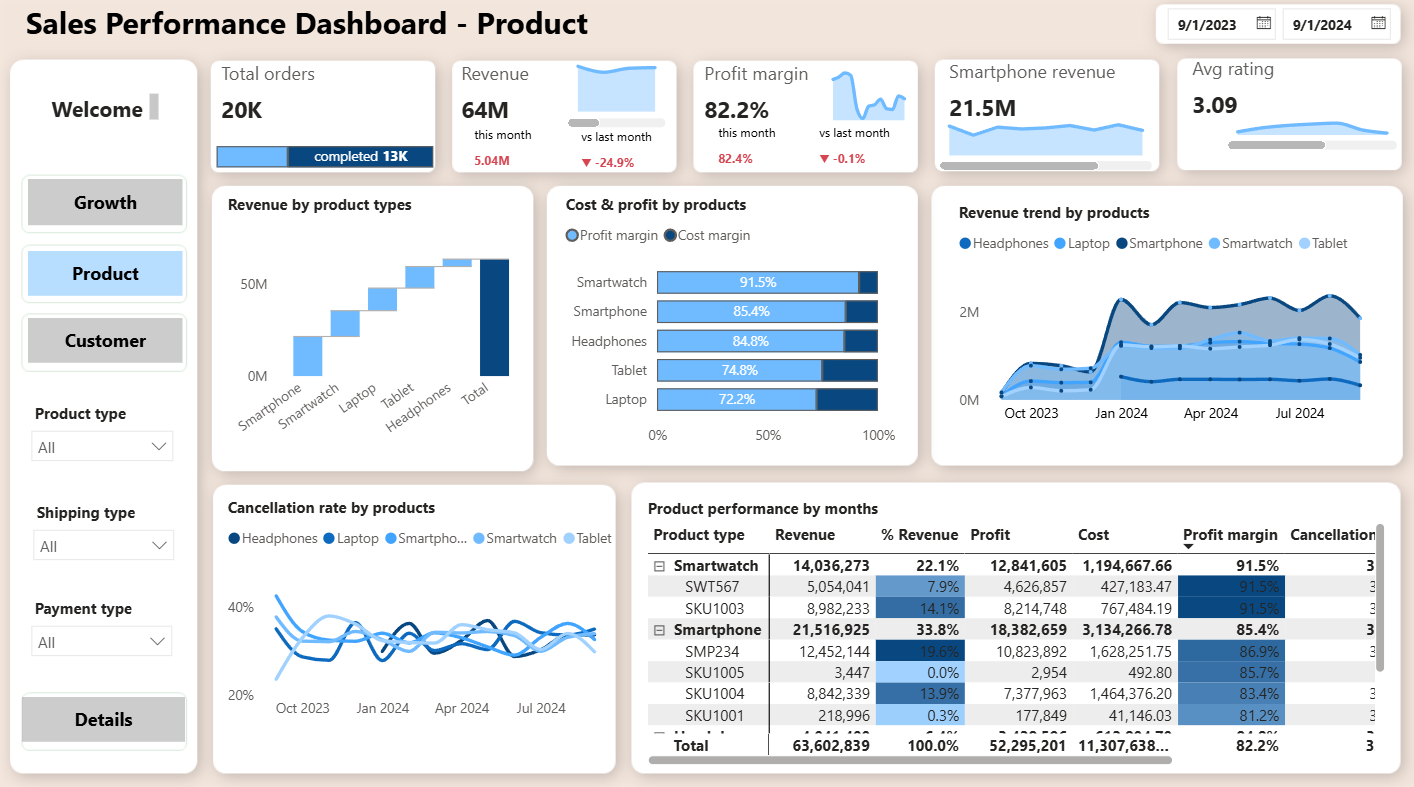

This screenshot's page, from the dashboard's own definition file:
{"tool":"powerbi","page":{"name":"Product","canvas":[1280,720],"ordinal":1},"visuals":[{"type":"cardVisual","fields":{"Data":["*Measure.M_order"]},"box":[192.8,43.9,133.2,99.2],"z":0},{"type":"textbox","box":[48.2,90.7,110.6,34],"z":1000},{"type":"cardVisual","fields":{"Data":["Avg(fact_order.rating)"]},"box":[1053.4,39.9,193.3,99.3],"z":2000},{"type":"lineChart","title":"Cancellation rate by products","fields":{"Category":["calendar.Start of Month"],"Series":["dim_product.product type"],"Y":["*Measure.M_Cancellation rate"]},"box":[210.1,453.1,357.3,205.7],"z":3000},{"type":"areaChart","title":"Revenue trend by products","fields":{"Category":["calendar.Start of Month.Variation.Date Hierarchy.Year","calendar.Start of Month.Variation.Date Hierarchy.Quarter","calendar.Start of Month.Variation.Date Hierarchy.Month","calendar.Start of Month.Variation.Date Hierarchy.Day"],"Series":["dim_product.product type"],"Y":["*Measure.M_revenue"]},"box":[858.6,191.6,388,205.3],"z":4000},{"type":"textbox","box":[31.2,8.5,559.8,45.4],"z":5000},{"type":"pivotTable","title":"Product performance by months","fields":{"Rows":["dim_product.product type","dim_product.sku"],"Values":["*Measure.M_revenue","*Measure.M_%_revenue product","*Measure.M_profit","*Measure.M_cost","*Measure.M_profit margin","*Measure.M_Cancellation rate","CountNonNull(fact_order.order id)","SparklineData(Sum(fact_order.order id)_[calendar.Start of Month])"]},"box":[582.5,453.8,664.1,241.7],"z":6000},{"type":"slicer","fields":{"Values":["calendar.Start of Month"]},"box":[1036.1,9.9,221.1,49.6],"z":7000},{"type":"actionButton","box":[38.3,171.5,137.5,41.1],"z":8000},{"type":"cardVisual","fields":{"Data":["*Measure.M_profit margin"]},"box":[620.8,43.9,181.4,99.2],"z":9000},{"type":"barChart","title":"Cost & profit by products","fields":{"Category":["dim_product.product type"],"Y":["*Measure.M_profit margin","*Measure.M_cost_margin"]},"box":[510.2,184.3,301.9,232.4],"z":10000},{"type":"slicer","fields":{"Values":["dim_product.product type"]},"box":[31.2,365.7,146,79.4],"z":11000},{"type":"slicer","fields":{"Values":["dim_shipping.shipping type"]},"box":[32.6,453.5,144.6,63.8],"z":12000},{"type":"actionButton","box":[38.3,235.3,137.5,39.7],"z":13000},{"type":"actionButton","box":[38.3,294.8,137.5,39.7],"z":14000},{"type":"areaChart","title":"Order trend","fields":{"Category":["calendar.Start of Month.Variation.Date Hierarchy.Year","calendar.Start of Month.Variation.Date Hierarchy.Quarter","calendar.Start of Month.Variation.Date Hierarchy.Month","calendar.Start of Month.Variation.Date Hierarchy.Day"],"Y":["*Measure.M_profit margin"]},"box":[737,62.4,93.5,62.4],"z":15000},{"type":"barChart","title":"Order status","fields":{"Series":["fact_order.status"],"Y":["*Measure.M_order"]},"box":[200.4,103.7,202.2,88.7],"z":16000},{"type":"areaChart","title":"Order trend","fields":{"Category":["calendar.Start of Month.Variation.Date Hierarchy.Year","calendar.Start of Month.Variation.Date Hierarchy.Quarter","calendar.Start of Month.Variation.Date Hierarchy.Month","calendar.Start of Month.Variation.Date Hierarchy.Day"],"Y2":["*Measure.M_revenue"]},"box":[511.6,48.8,96.7,81.6],"z":17000},{"type":"areaChart","title":"Order trend","fields":{"Category":["calendar.Start of Month.Variation.Date Hierarchy.Year","calendar.Start of Month.Variation.Date Hierarchy.Quarter","calendar.Start of Month.Variation.Date Hierarchy.Month","calendar.Start of Month.Variation.Date Hierarchy.Day"],"Y":["Avg(fact_order.rating)"]},"box":[1097,73.7,160.2,76.5],"z":18000},{"type":"cardVisual","fields":{"Data":["*Measure.M_profit_margin_this_month"]},"box":[633.5,107.7,147.4,68],"z":19000},{"type":"cardVisual","fields":{"Data":["*Measure.M_profit_margin_MoM_card"]},"box":[722.8,107.7,114.8,68],"z":20000},{"type":"slicer","fields":{"Values":["dim_payment.payment type"]},"box":[31.2,538.6,144.6,59.5],"z":21000},{"type":"actionButton","box":[32.6,630.7,144.6,39.7],"z":22000},{"type":"waterfallChart","title":"Revenue by product types","fields":{"Category":["dim_product.product type"],"Y":["*Measure.M_revenue"]},"box":[209.8,184.3,273.5,232.4],"z":23000},{"type":"cardVisual","fields":{"Data":["*Measure.M_icon_r_mom"]},"box":[511.7,110.6,140.3,68],"z":24000},{"type":"cardVisual","fields":{"Data":["*Measure.M_revenue"]},"box":[405.4,43.9,192.8,99.2],"z":25000},{"type":"cardVisual","fields":{"Data":["*Measure.M_revenue_this_month"]},"box":[416.7,109.1,140.3,68],"z":26000},{"type":"areaChart","title":"Smartphone revenue","fields":{"Category":["calendar.Start of Month.Variation.Date Hierarchy.Year","calendar.Start of Month.Variation.Date Hierarchy.Quarter","calendar.Start of Month.Variation.Date Hierarchy.Month","calendar.Start of Month.Variation.Date Hierarchy.Day"],"Y":["*Measure.M_revenue_smartphone"]},"box":[841.9,107.7,198.4,60.9],"z":27000},{"type":"cardVisual","fields":{"Data":["*Measure.M_revenue_smartphone"]},"box":[837.6,45.4,198.4,93.5],"z":28000}]}

Visuals, with their boxes in screenshot pixels (x1, y1, x2, y2), scaled from the page's 1280x720 canvas onto the 1414x787 screenshot:
cardVisual - *Measure.M_order: [213, 48, 360, 156]
textbox: [53, 99, 175, 136]
cardVisual - Avg(fact_order.rating): [1164, 44, 1377, 152]
"Cancellation rate by products" lineChart: [232, 495, 627, 720]
"Revenue trend by products" areaChart: [948, 209, 1377, 434]
textbox: [34, 9, 653, 59]
"Product performance by months" pivotTable: [643, 496, 1377, 760]
slicer - calendar.Start of Month: [1145, 11, 1389, 65]
actionButton: [42, 187, 194, 232]
cardVisual - *Measure.M_profit margin: [686, 48, 886, 156]
"Cost & profit by products" barChart: [564, 201, 897, 455]
slicer - dim_product.product type: [34, 400, 196, 487]
slicer - dim_shipping.shipping type: [36, 496, 196, 565]
actionButton: [42, 257, 194, 301]
actionButton: [42, 322, 194, 366]
"Order trend" areaChart: [814, 68, 917, 136]
"Order status" barChart: [221, 113, 445, 210]
"Order trend" areaChart: [565, 53, 672, 143]
"Order trend" areaChart: [1212, 81, 1389, 164]
cardVisual - *Measure.M_profit_margin_this_month: [700, 118, 863, 192]
cardVisual - *Measure.M_profit_margin_MoM_card: [798, 118, 925, 192]
slicer - dim_payment.payment type: [34, 589, 194, 654]
actionButton: [36, 689, 196, 733]
"Revenue by product types" waterfallChart: [232, 201, 534, 455]
cardVisual - *Measure.M_icon_r_mom: [565, 121, 720, 195]
cardVisual - *Measure.M_revenue: [448, 48, 661, 156]
cardVisual - *Measure.M_revenue_this_month: [460, 119, 615, 194]
"Smartphone revenue" areaChart: [930, 118, 1149, 184]
cardVisual - *Measure.M_revenue_smartphone: [925, 50, 1144, 152]
